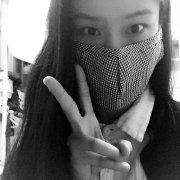OK: (64, 8, 164, 108)
